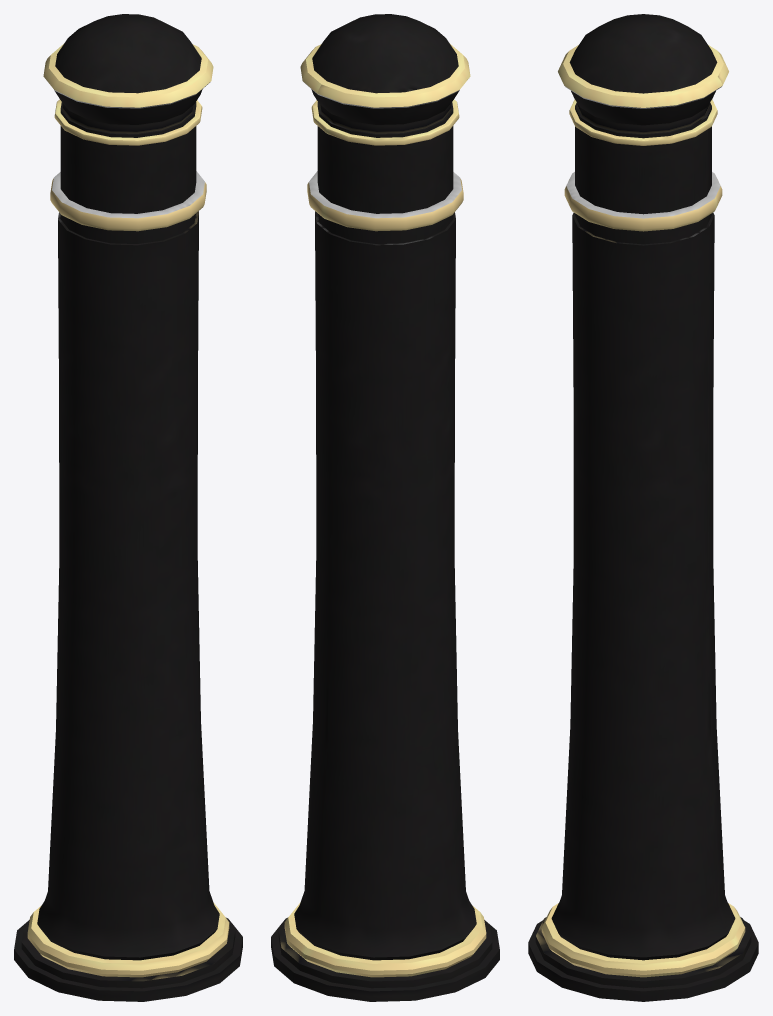
File: bollard-post.glb
3 renders of one model, left to right at view 1: azimuth 30°, elevation 25°; view 2: azimuth 150°, elevation 25°; view 3: azimuth 270°, elevation 25°, orthographic.
Parts seen in each view (by area): view 1: g; view 2: g; view 3: g.
Boxes of the visible parts, x1=… form: g: x1=14, y1=14, x2=242, y2=1001; g: x1=271, y1=14, x2=499, y2=1001; g: x1=528, y1=14, x2=758, y2=1001.
Size of the model in its own units: 0.2024 by 0.9 by 0.2024.
1 material, 1 textured.
